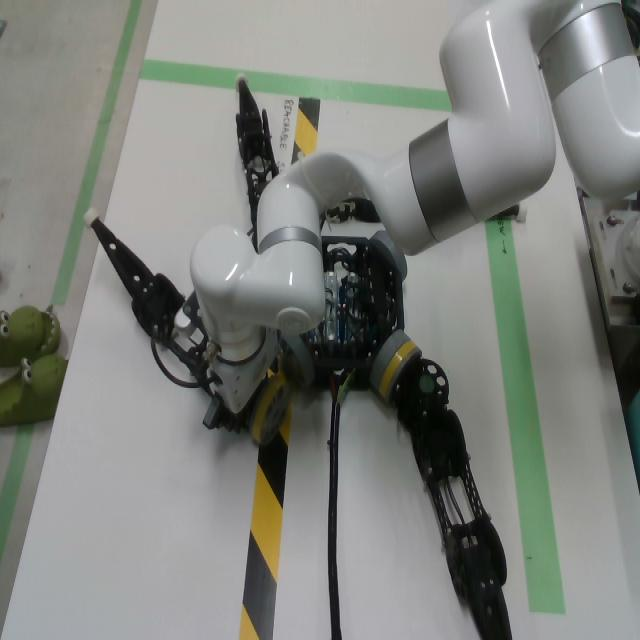body: (300, 231, 407, 391)
body_connector: (369, 329, 410, 389), (279, 333, 314, 392), (369, 231, 408, 281)
gripper: (203, 328, 282, 433)
leg: (378, 340, 513, 640), (82, 205, 215, 399), (235, 71, 279, 253), (240, 372, 291, 447), (326, 197, 381, 224), (498, 200, 527, 224)
leg_connector: (249, 373, 291, 448), (379, 341, 422, 404)
leg_marker: (420, 376, 434, 393)
